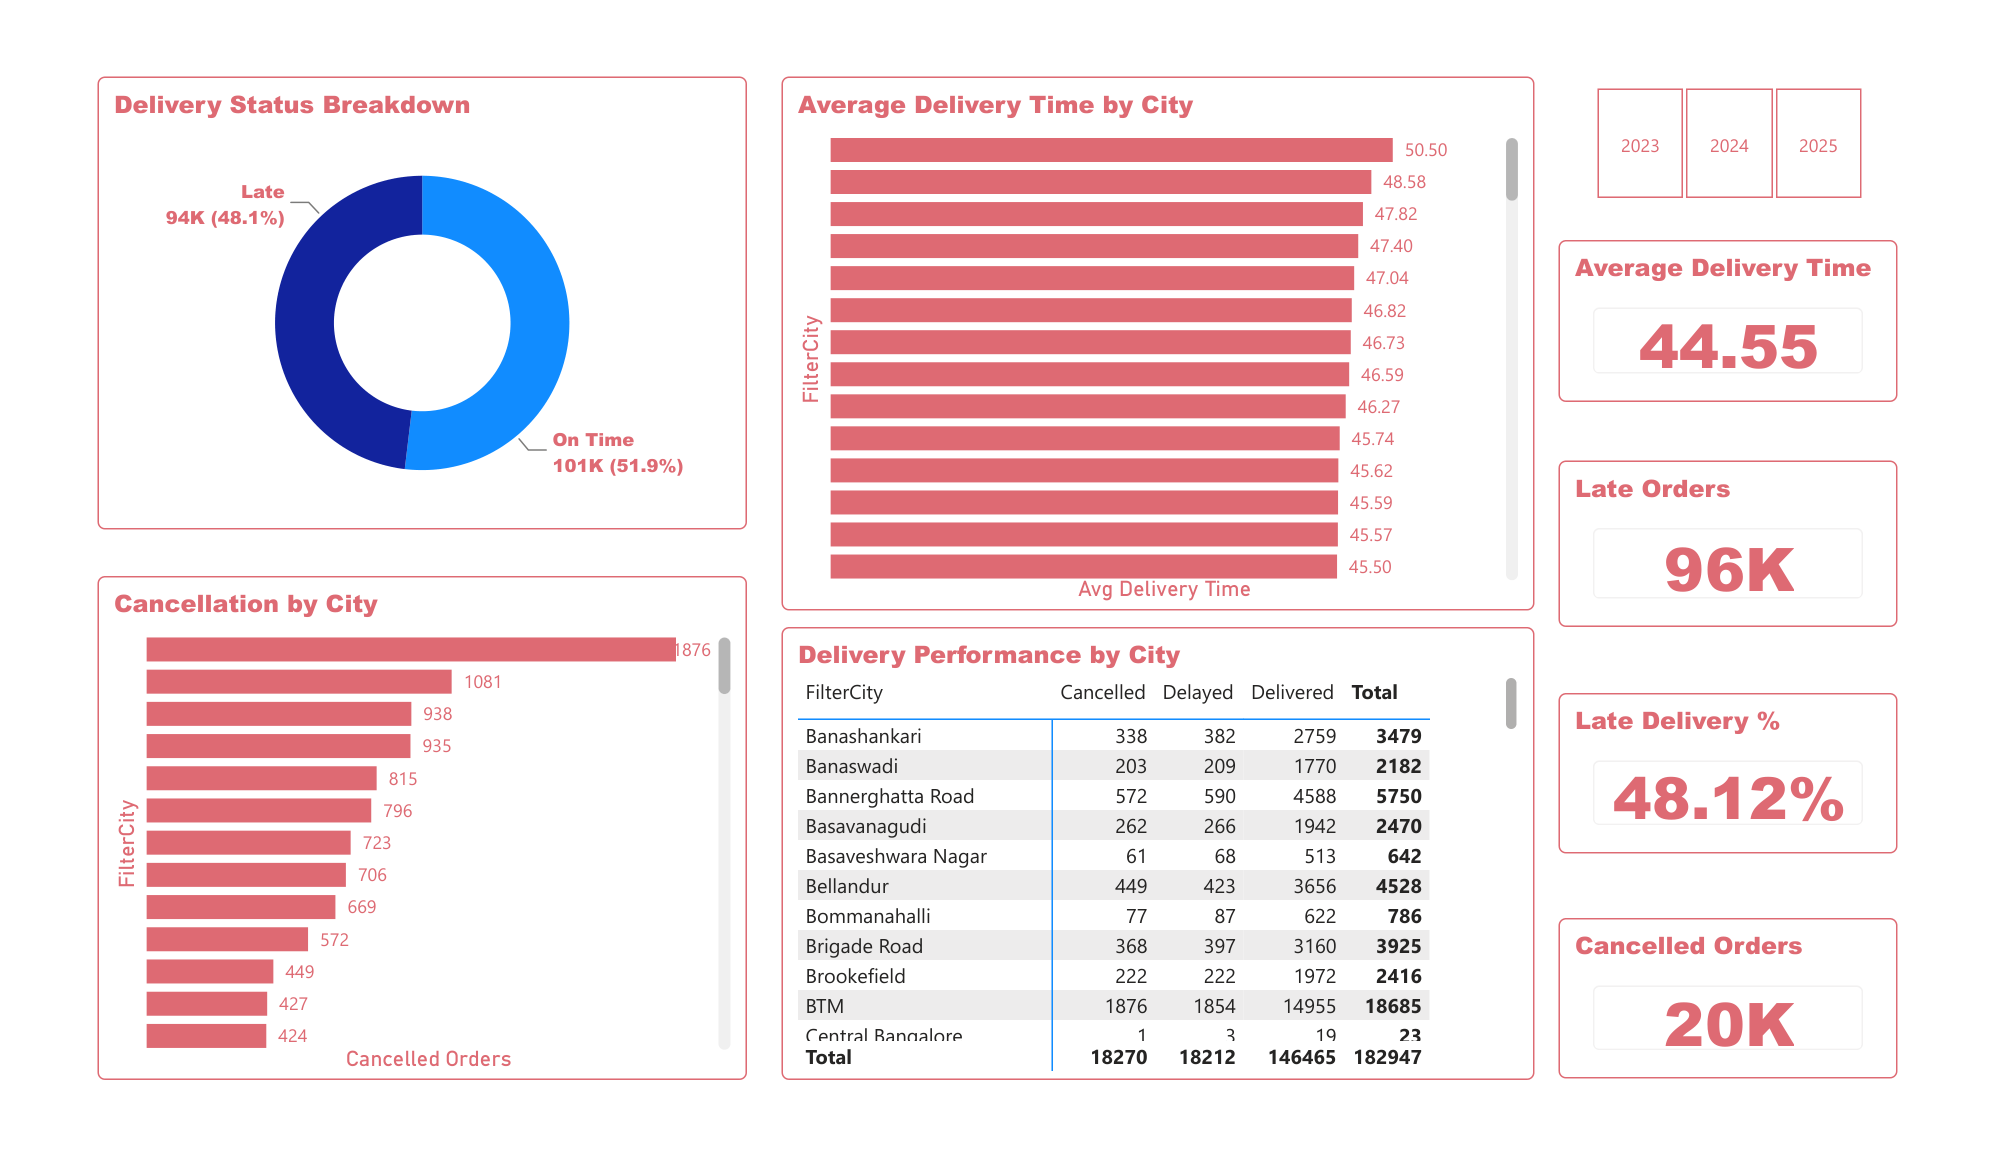

The page's visual inventory and layout, read from the dashboard file:
{"tool":"powerbi","page":{"name":"Delivery And Operations","canvas":[1280,720],"ordinal":3},"visuals":[{"type":"cardVisual","title":"Average Delivery Time","fields":{"Data":["Orders.Avg Delivery Time"]},"box":[1015,136.2,226.2,107.5],"z":0},{"type":"cardVisual","title":"Late Orders ","fields":{"Data":["Orders.Late Orders"]},"box":[1015,282.5,226.2,111.2],"z":1000},{"type":"cardVisual","title":"Late Delivery %","fields":{"Data":["Orders.Late Delivery %"]},"box":[1015,437.5,226.2,107.5],"z":2000},{"type":"cardVisual","title":"Cancelled Orders","fields":{"Data":["Orders.Cancelled Orders"]},"box":[1015,587.5,226.2,107.5],"z":3000},{"type":"barChart","title":"Average Delivery Time by City","fields":{"Category":["Customers.FilterCity"],"Y":["Orders.Avg Delivery Time"]},"box":[497.1,27.1,501.4,355.7],"z":4000},{"type":"donutChart","title":"Delivery  Status Breakdown","fields":{"Y":["Orders.Total Orders"],"Category":["Orders.Delivery Status"]},"box":[41.4,27.1,432.9,301.4],"z":5000},{"type":"barChart","title":"Cancellation by City ","fields":{"Category":["Customers.FilterCity"],"Y":["Orders.Cancelled Orders"]},"box":[41.4,360,432.9,335.7],"z":6000},{"type":"pivotTable","title":"Delivery Performance by City","fields":{"Rows":["Customers.FilterCity"],"Columns":["Orders.OrderStatus"],"Values":["Orders.Total Orders"]},"box":[497.1,394.3,501.4,301.4],"z":7000},{"type":"slicer","fields":{"Values":["DateTable.Year"]},"box":[1015,27.5,226.2,87.5],"z":8000}]}

Visuals, with their boxes in screenshot pixels (x1, y1, x2, y2), scaled from the page's 1280x720 canvas onto the 1992x1152 screenshot:
"Average Delivery Time" cardVisual: <region>1580, 218, 1932, 390</region>
"Late Orders " cardVisual: <region>1580, 452, 1932, 630</region>
"Late Delivery %" cardVisual: <region>1580, 700, 1932, 872</region>
"Cancelled Orders" cardVisual: <region>1580, 940, 1932, 1112</region>
"Average Delivery Time by City" barChart: <region>774, 43, 1554, 612</region>
"Delivery  Status Breakdown" donutChart: <region>64, 43, 738, 526</region>
"Cancellation by City " barChart: <region>64, 576, 738, 1113</region>
"Delivery Performance by City" pivotTable: <region>774, 631, 1554, 1113</region>
slicer - DateTable.Year: <region>1580, 44, 1932, 184</region>
